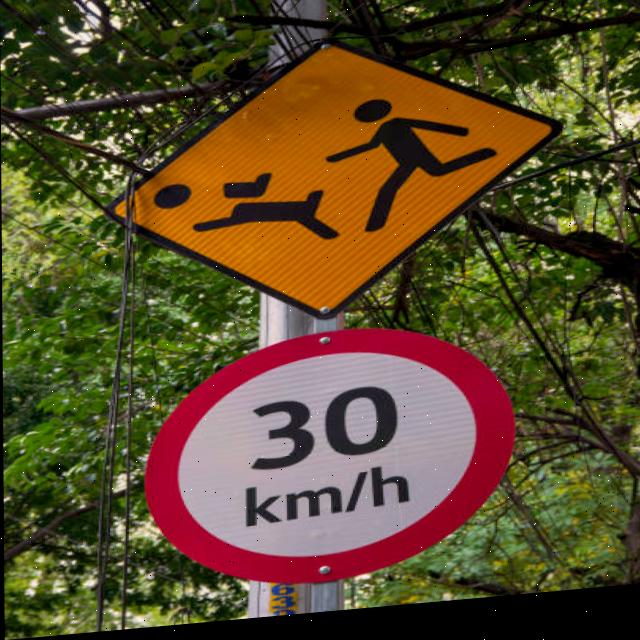Speed limit 30: (139, 321, 520, 603)
